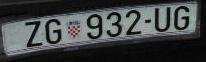-: (144, 19, 152, 25)
2: (126, 9, 142, 37)
3: (106, 11, 122, 37)
9: (86, 13, 103, 40)
G: (44, 19, 62, 44), (174, 5, 189, 31)
U: (155, 7, 171, 32)
Z: (25, 21, 43, 49)
